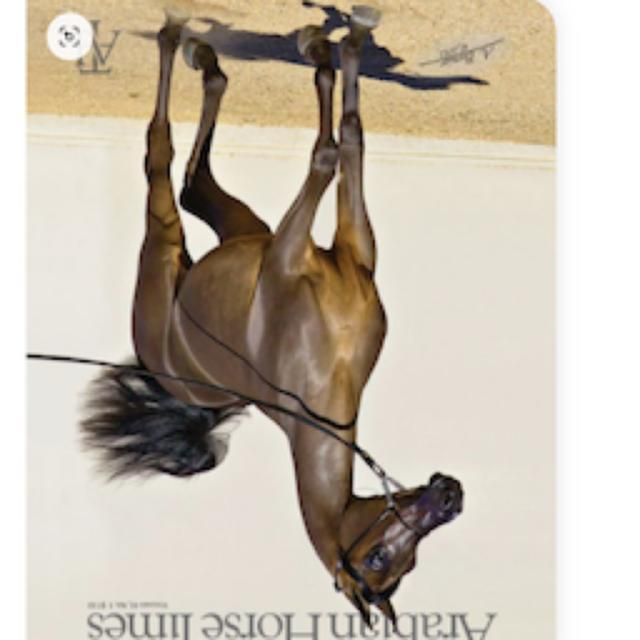Horse: (72, 2, 472, 632)
